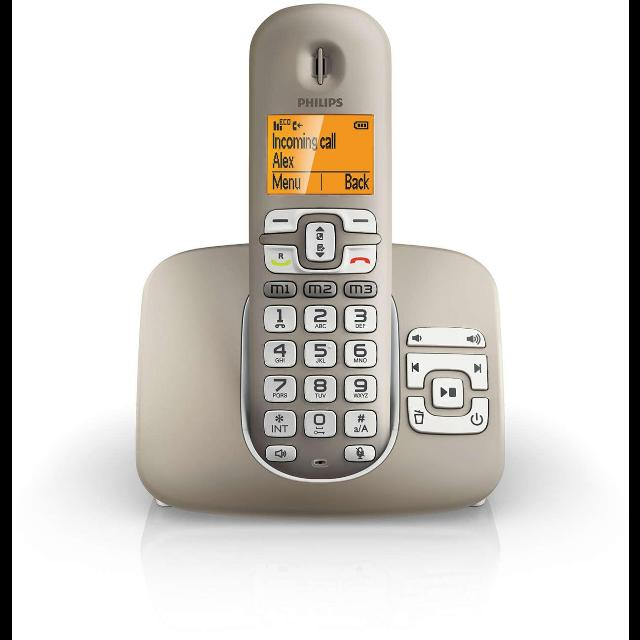Telephone-Set: (96, 6, 518, 534)
